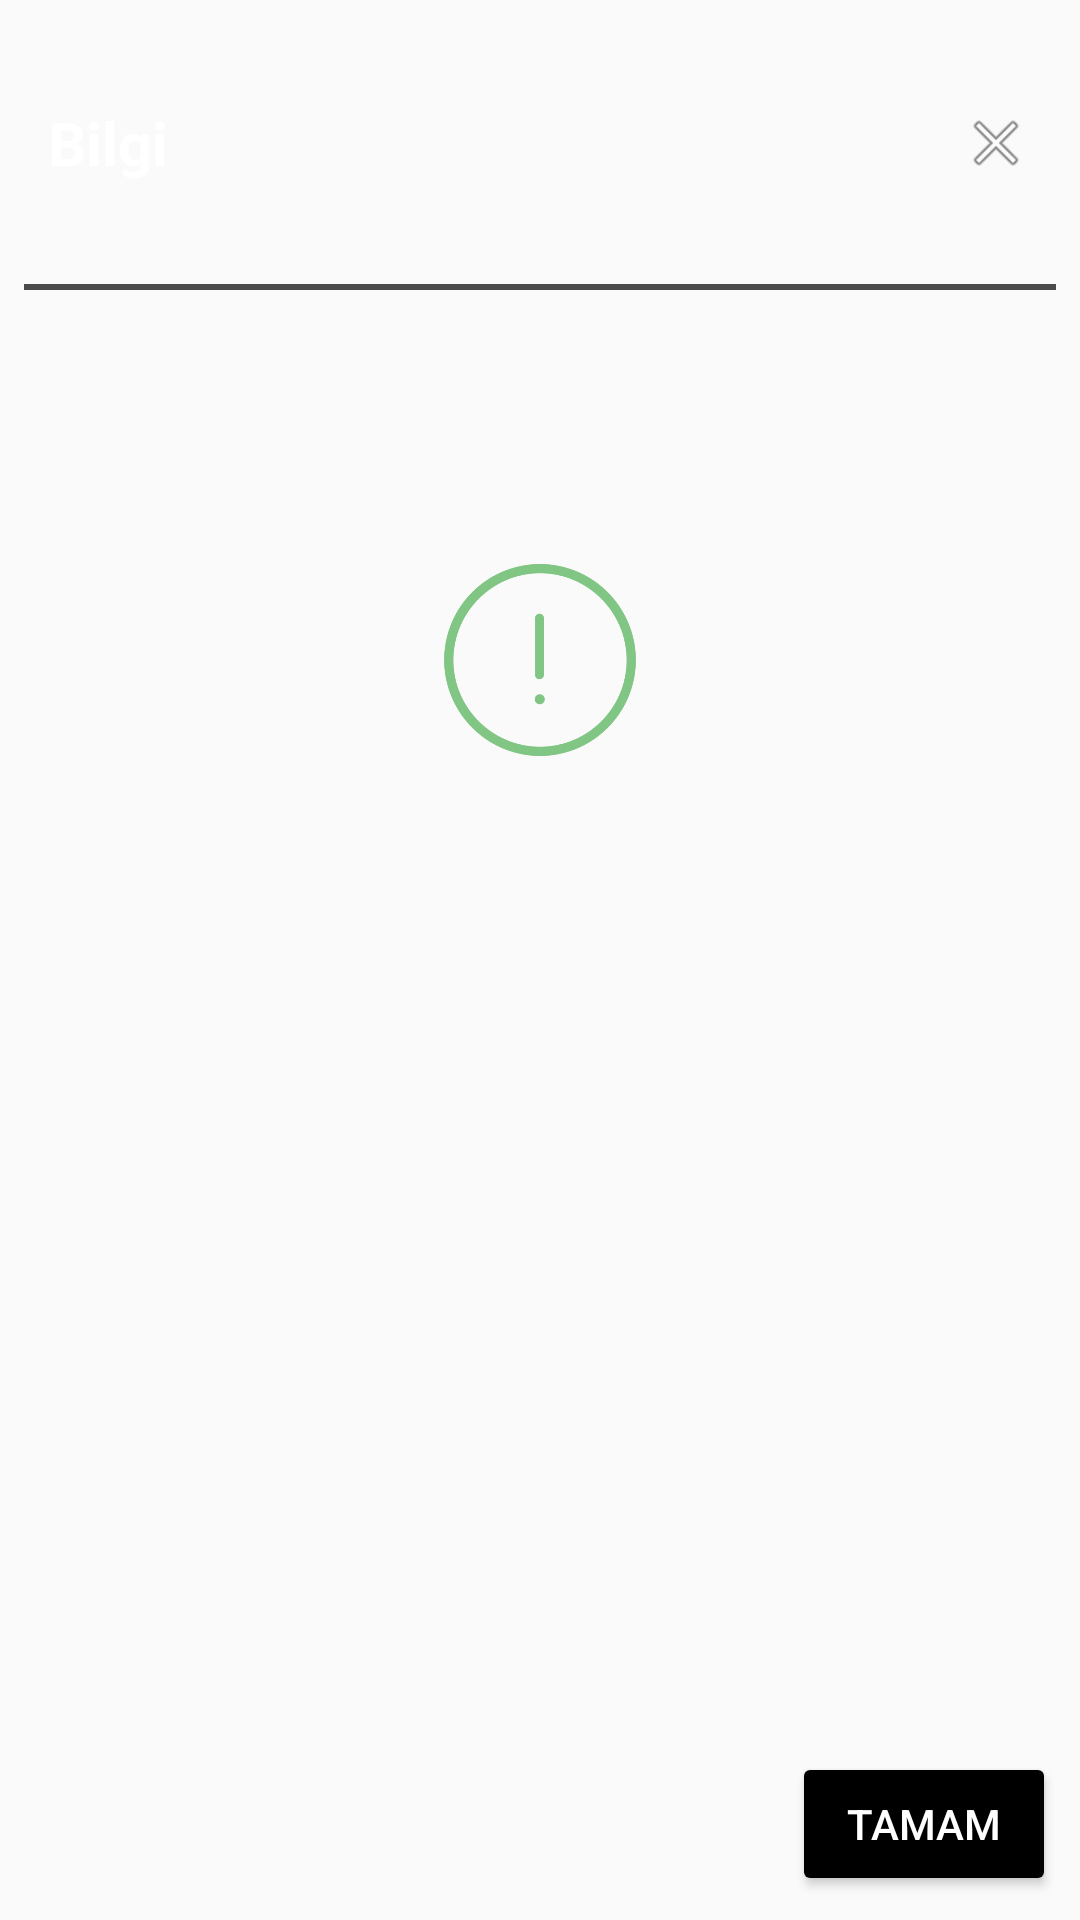

Screen size 1080 x 1920. Icon name, then its center in pixels as point (x, y):
close clear cancel: point (996, 143)
warning: point (540, 660)
